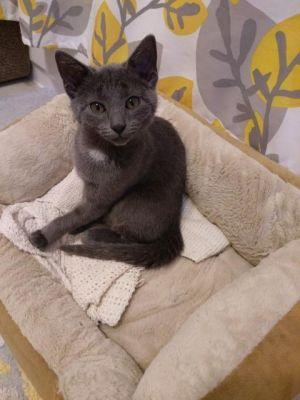rblue: (46, 29, 179, 162)
